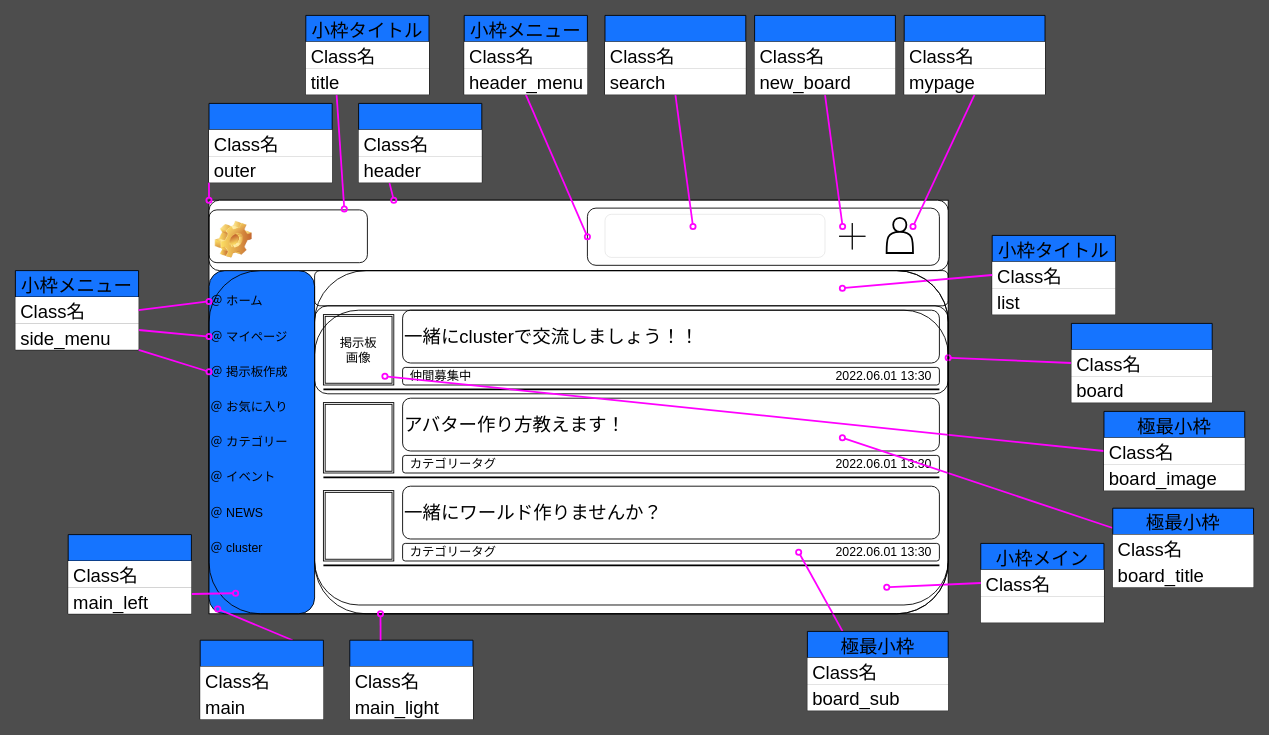
The diagram is 1269 pixels wide and 735 high, and some of its shapes have lost their labels. Here are the shapes that lost their labels. From the top down, the box of each, then its label:
(604, 15, 746, 95): 最小枠検索欄
(754, 15, 895, 95): 最小枠新規作成
(903, 15, 1045, 95): 最小枠mypage
(208, 103, 332, 183): 大枠全体
(358, 103, 482, 183): 中枠ヘッダー
(209, 209, 393, 270): Cluster Board
(605, 214, 825, 257): 掲示板検索
(314, 270, 948, 306): 掲示板一覧
(1071, 323, 1212, 403): 最小枠
(67, 534, 191, 614): 中枠2レフト
(980, 596, 1104, 622): board_list
(199, 639, 323, 719): 中枠メイン
(349, 639, 473, 719): 中枠2ライト
